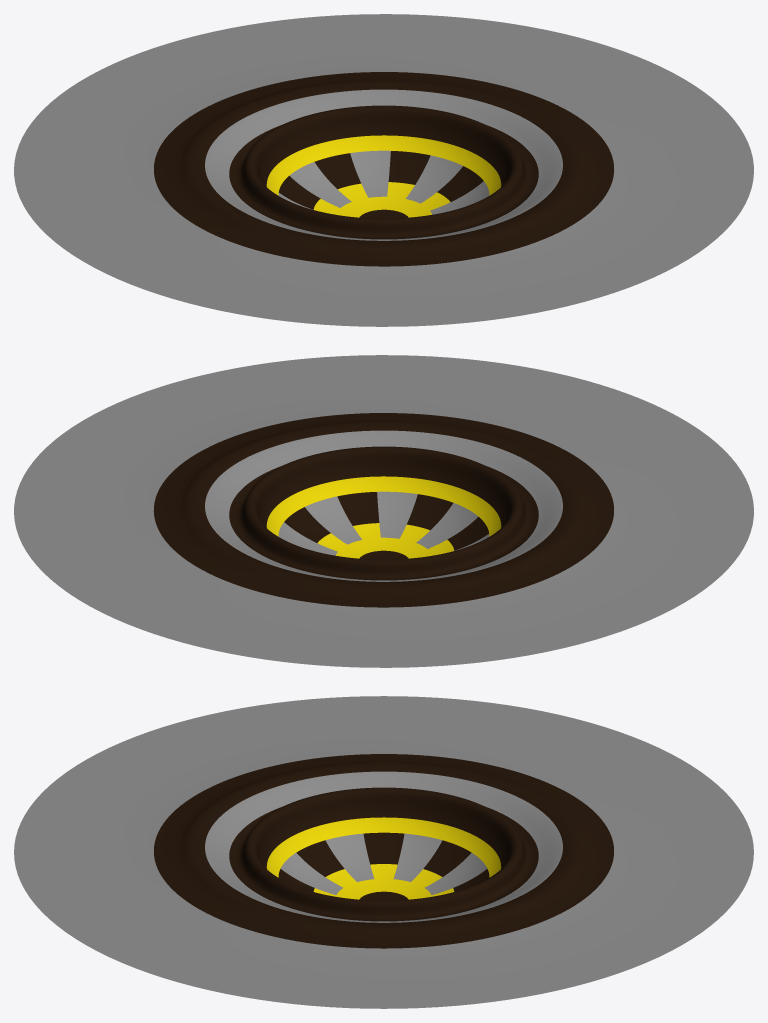
File: stage.glb
3 views of the same model, one above another, from view 1: azimuth 30°, elevation 25°; view 2: azimuth 150°, elevation 25°; view 3: azimuth 270°, elevation 25° (orthographic).
Parts seen in each view (by area): view 1: 球; view 2: 球; view 3: 球.
Part boxes in pixels (x1,y1,x2,y2): 球: [14, 14, 753, 326]; 球: [14, 355, 753, 667]; 球: [14, 696, 753, 1008].
Size of the model in its own units: 18.37 by 1.63 by 18.37.
